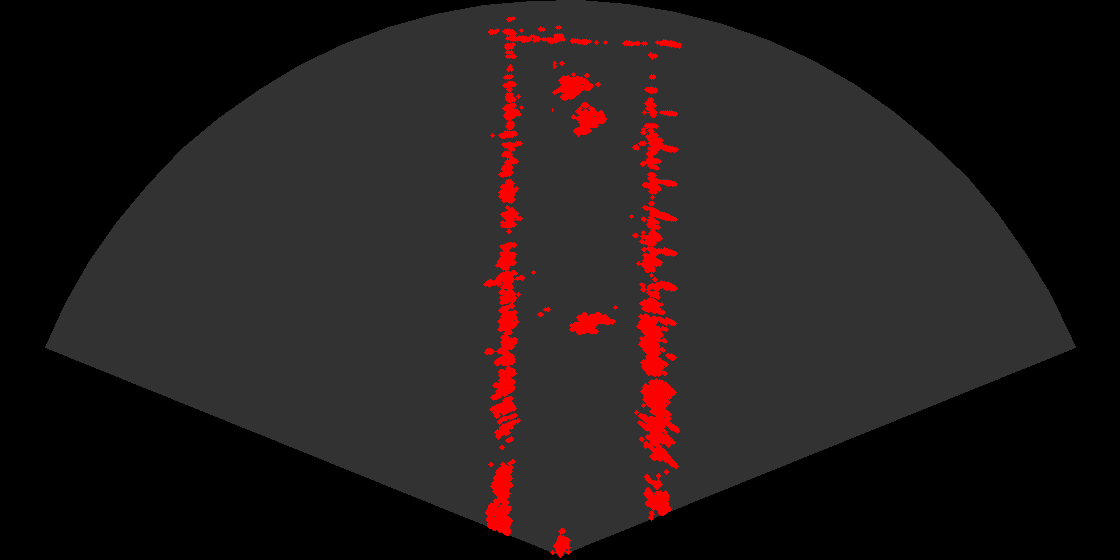AUV: (563, 310, 619, 342)
cage: (552, 61, 615, 145)
